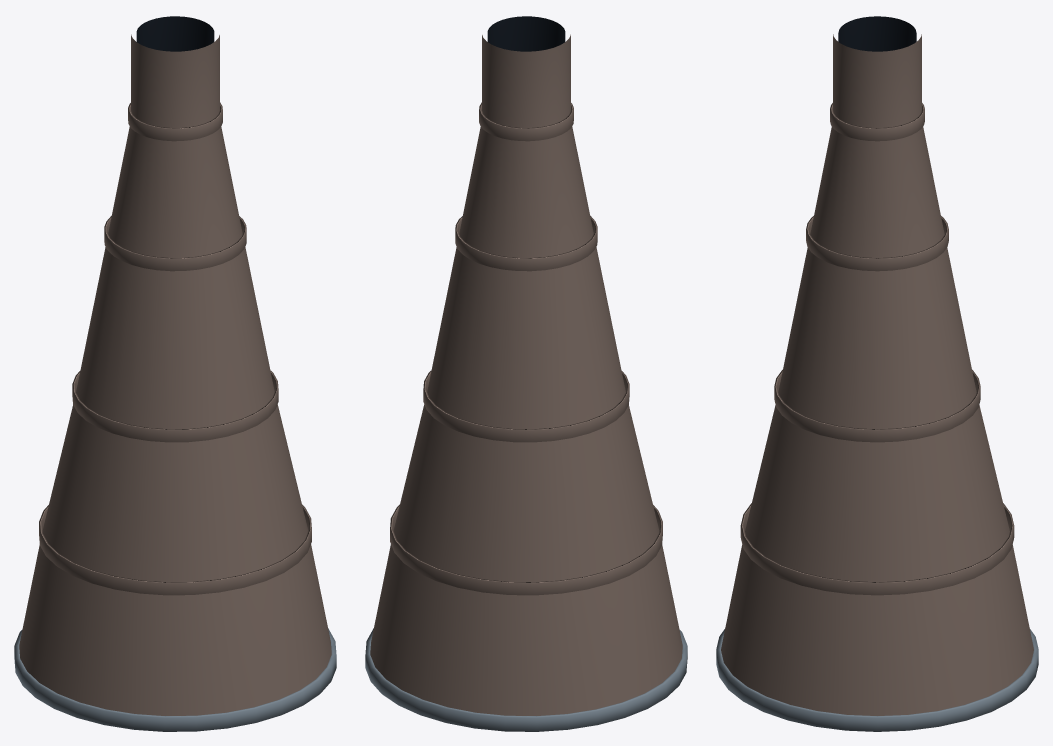
File: atlas_v_core.rd180.chamber_01.glb
3 views of the same model, side by side, from view 1: azimuth 30°, elevation 25°; view 2: azimuth 150°, elevation 25°; view 3: azimuth 270°, elevation 25° (orthographic).
Parts seen in each view (by area): view 1: atlas_v_core.rd180.chamber_01.bell.mesh_Heat-stained_alloy, atlas_v_core.rd180.chamber_01.bell.mesh_Machined_steel, atlas_v_core.rd180.chamber_01.bell.mesh_Shadowed_interior; view 2: atlas_v_core.rd180.chamber_01.bell.mesh_Heat-stained_alloy, atlas_v_core.rd180.chamber_01.bell.mesh_Machined_steel, atlas_v_core.rd180.chamber_01.bell.mesh_Shadowed_interior; view 3: atlas_v_core.rd180.chamber_01.bell.mesh_Heat-stained_alloy, atlas_v_core.rd180.chamber_01.bell.mesh_Machined_steel, atlas_v_core.rd180.chamber_01.bell.mesh_Shadowed_interior.
Part boxes in pixels (x1,y1,x2,y2): atlas_v_core.rd180.chamber_01.bell.mesh_Heat-stained_alloy: (19, 34, 331, 715); atlas_v_core.rd180.chamber_01.bell.mesh_Machined_steel: (14, 628, 336, 731); atlas_v_core.rd180.chamber_01.bell.mesh_Shadowed_interior: (136, 16, 214, 51); atlas_v_core.rd180.chamber_01.bell.mesh_Heat-stained_alloy: (370, 34, 682, 715); atlas_v_core.rd180.chamber_01.bell.mesh_Machined_steel: (365, 628, 687, 731); atlas_v_core.rd180.chamber_01.bell.mesh_Shadowed_interior: (487, 16, 565, 51); atlas_v_core.rd180.chamber_01.bell.mesh_Heat-stained_alloy: (721, 34, 1033, 715); atlas_v_core.rd180.chamber_01.bell.mesh_Machined_steel: (716, 629, 1038, 731); atlas_v_core.rd180.chamber_01.bell.mesh_Shadowed_interior: (838, 16, 916, 51).
Size of the model in its own units: 1.6 by 3.45 by 1.6.
